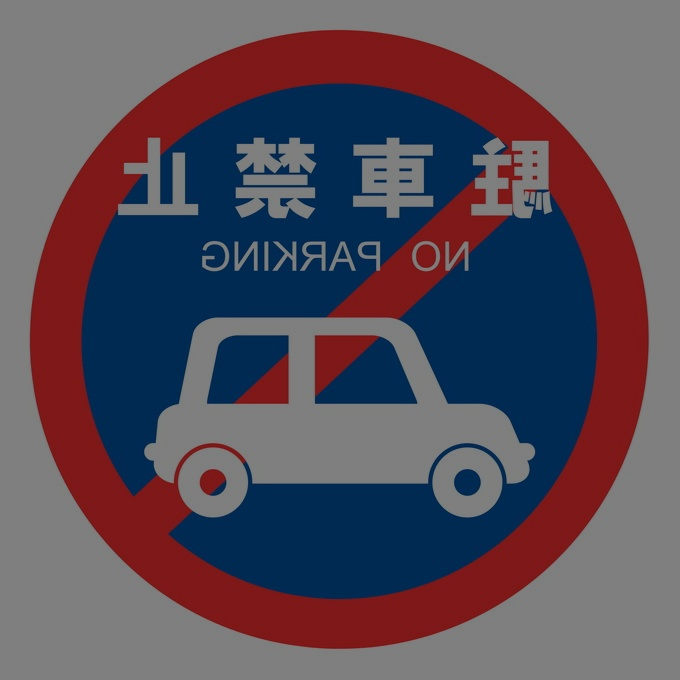Prohibition_sign: (24, 1, 649, 658)
